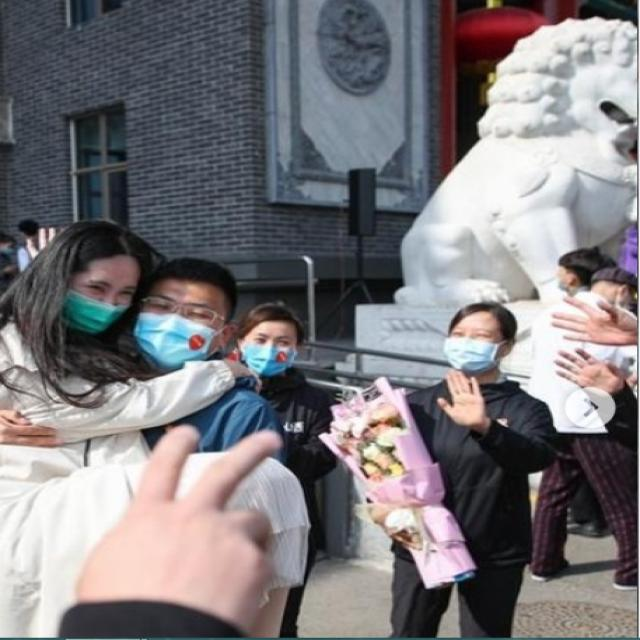mask: (33, 280, 133, 338), (133, 326, 220, 361), (427, 340, 500, 379), (240, 349, 297, 380)
